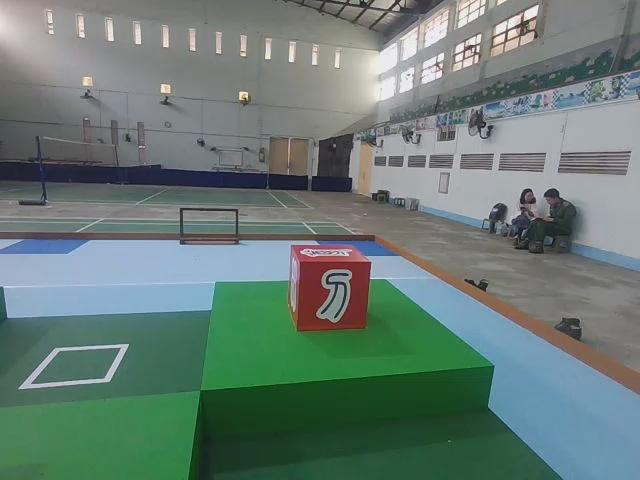R2 Fake: (289, 245, 371, 332)
